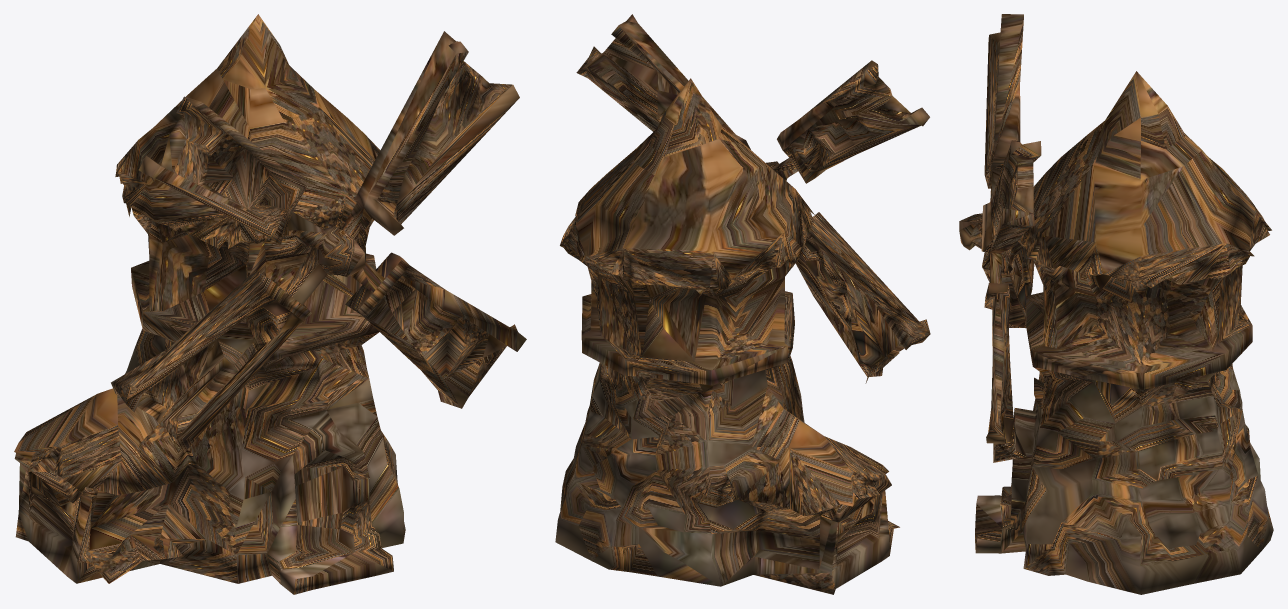
File: Windmill_Haven.glb
3 views of the same model, side by side, from view 1: azimuth 30°, elevation 25°; view 2: azimuth 150°, elevation 25°; view 3: azimuth 270°, elevation 25° (orthographic). The views are drawn at different scales.
Parts seen in each view (by area): view 1: Windmill_Haven; view 2: Windmill_Haven; view 3: Windmill_Haven.
Part boxes in pixels (x1,y1,x2,y2): Windmill_Haven: (14,14,526,594); Windmill_Haven: (555,14,930,594); Windmill_Haven: (959,14,1273,594).
Size of the model in its own units: 1.7 by 2 by 1.23.
Materials: 1 (1 with a texture image).
